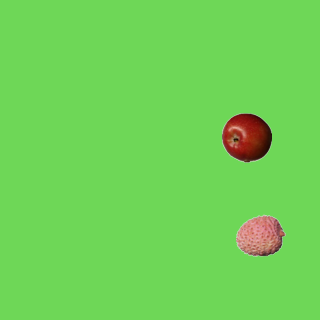Apple Braeburn: (221, 112, 271, 162)
Lychee: (235, 210, 285, 260)
